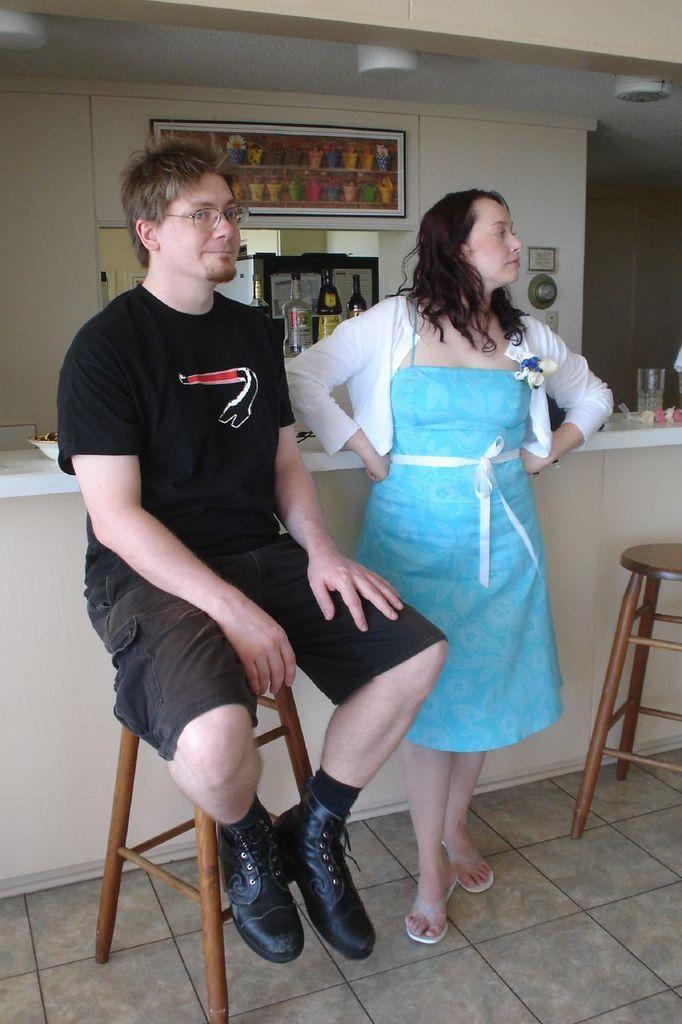Chair: (94, 670, 315, 1023)
